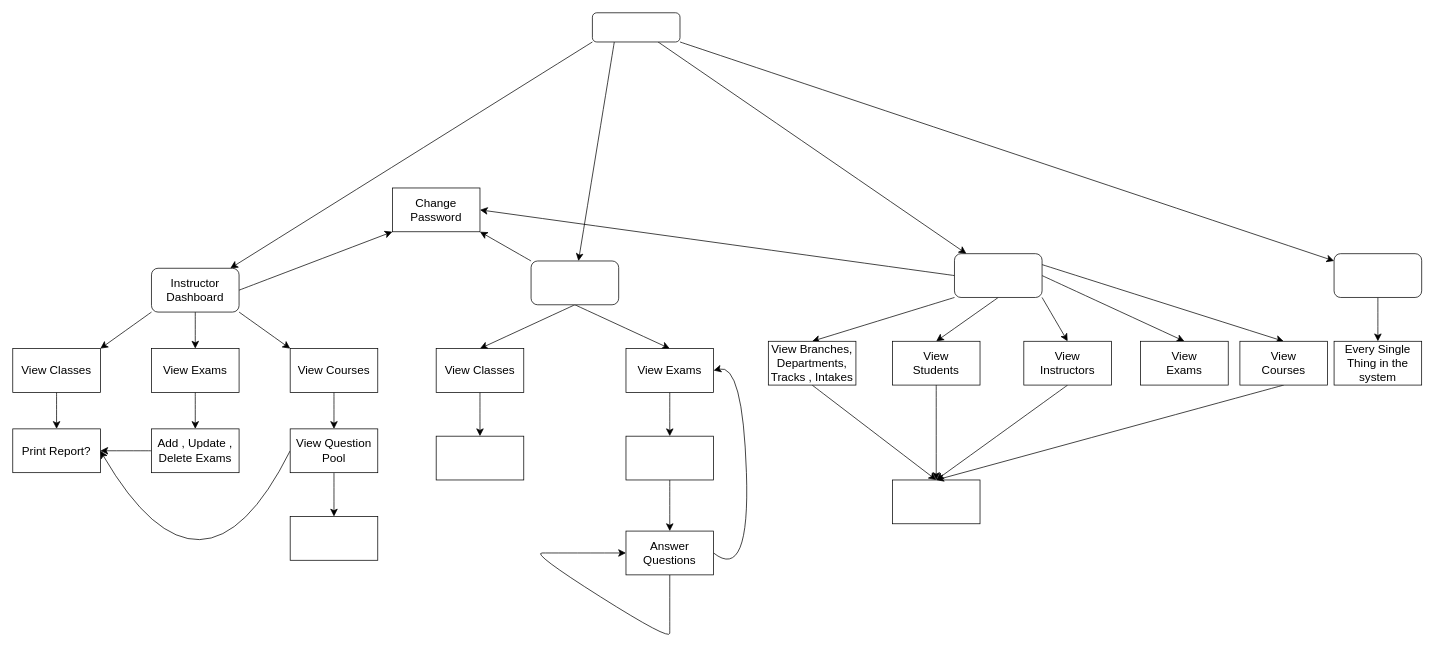
This 1434x648 diagram has some shape labels left out. The shapes that lost their labels are listed below. From the top down, each one's centre as x and y in pixels, then its label:
the point at 636,27: Login
the point at 574,282: Student Dashboard
the point at 998,275: Manager Dashboard
the point at 1377,275: Admin Dashboard
the point at 479,457: View Course Details
the point at 669,457: Start Exam
the point at 936,501: Add, Update, Delete the above
the point at 333,538: Add, Update, Delete Questions
